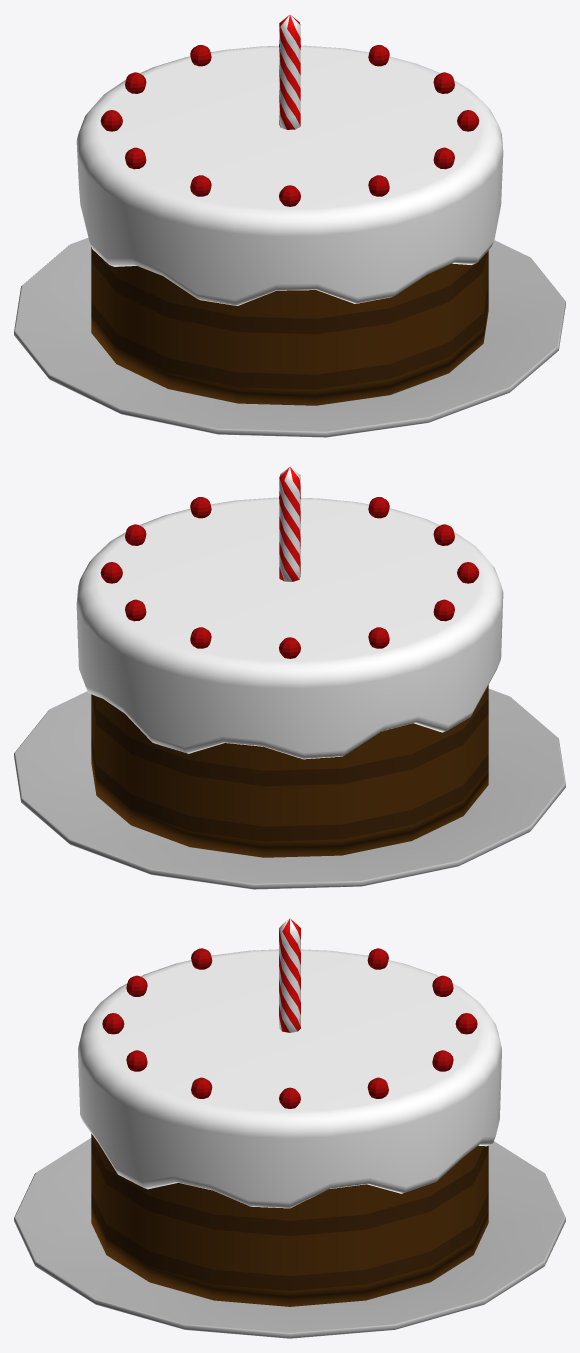
File: cake.gltf
The picture shows the model from 3 angles, top to bottom: view 1: azimuth 30°, elevation 25°; view 2: azimuth 150°, elevation 25°; view 3: azimuth 270°, elevation 25°; orthographic projection.
Visible parts, largest first — view 1: TheCake; view 2: TheCake; view 3: TheCake.
Boxes of the visible parts, x1,y1,x2,y2 form: TheCake: (14,14,565,437); TheCake: (14,466,565,889); TheCake: (14,918,565,1338).
Bounding box in the file's own units: 0.5 × 0.3218 × 0.5.
